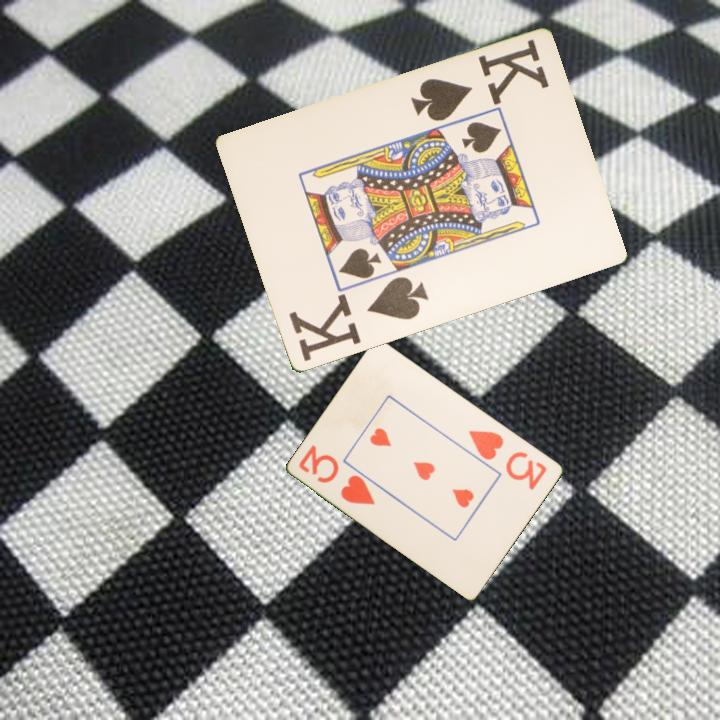3h: (465, 426, 550, 493), (295, 441, 378, 508)
Ks: (285, 273, 432, 365), (407, 36, 552, 125)
